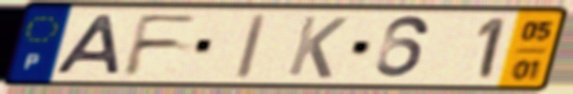1: (474, 16, 507, 83)
6: (373, 14, 433, 83)
A: (52, 13, 125, 77)
F: (119, 13, 204, 79)
I: (232, 12, 271, 82)
K: (283, 14, 351, 81)
